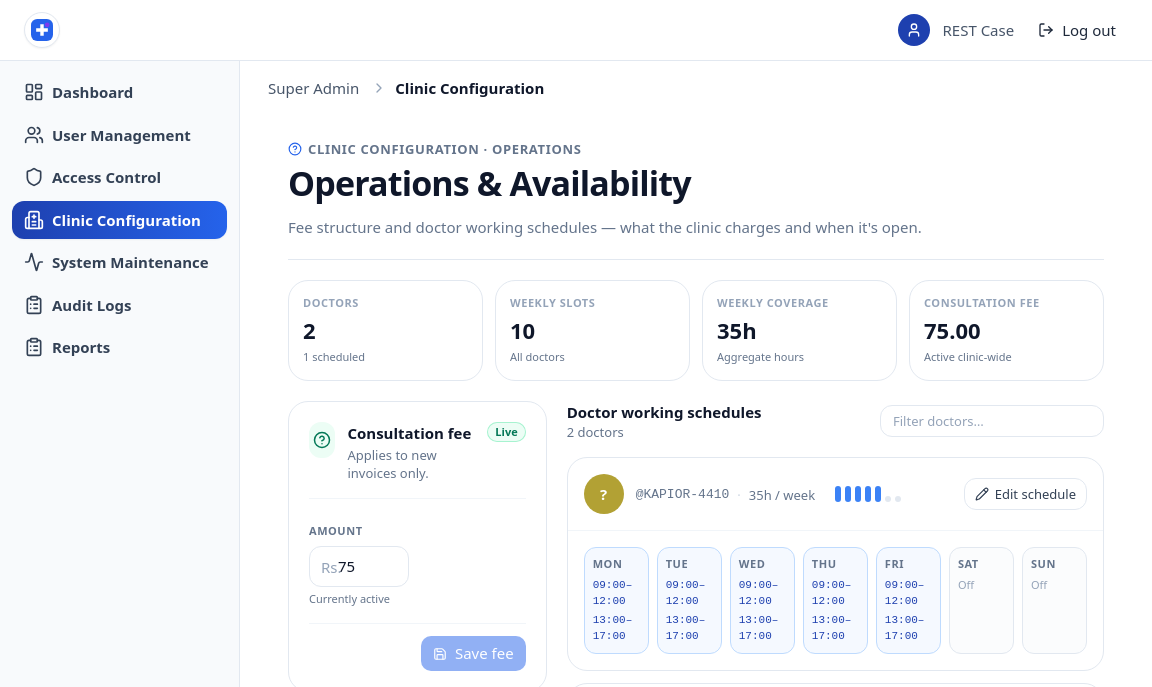
super-admin clinic configuration — REST cases › shows the backend refusal and keeps the draft when the fee save fails
Expected: the text "@KAPIOR-4410" is shown, [636,486,729,504]
Step 1. Replace the text in the number field labelled "Amount" with "150" → (359, 567), box [309,546,409,587]
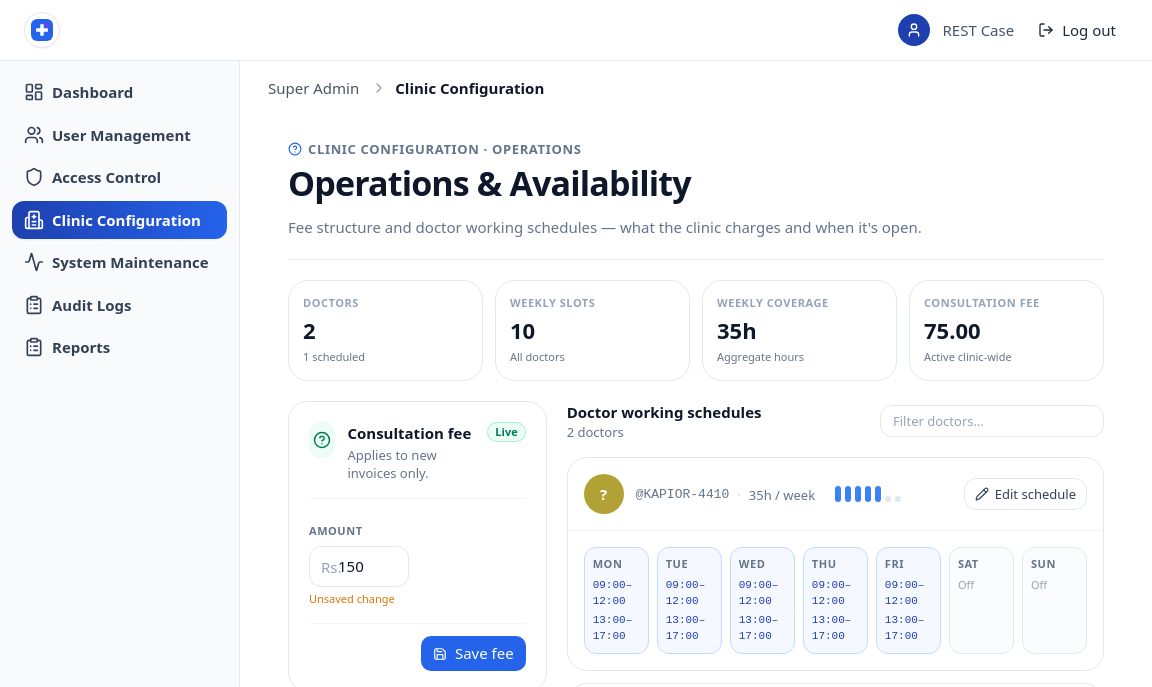
Step 2. Click the button "Save fee" → click(473, 654), box [421,636,526,671]
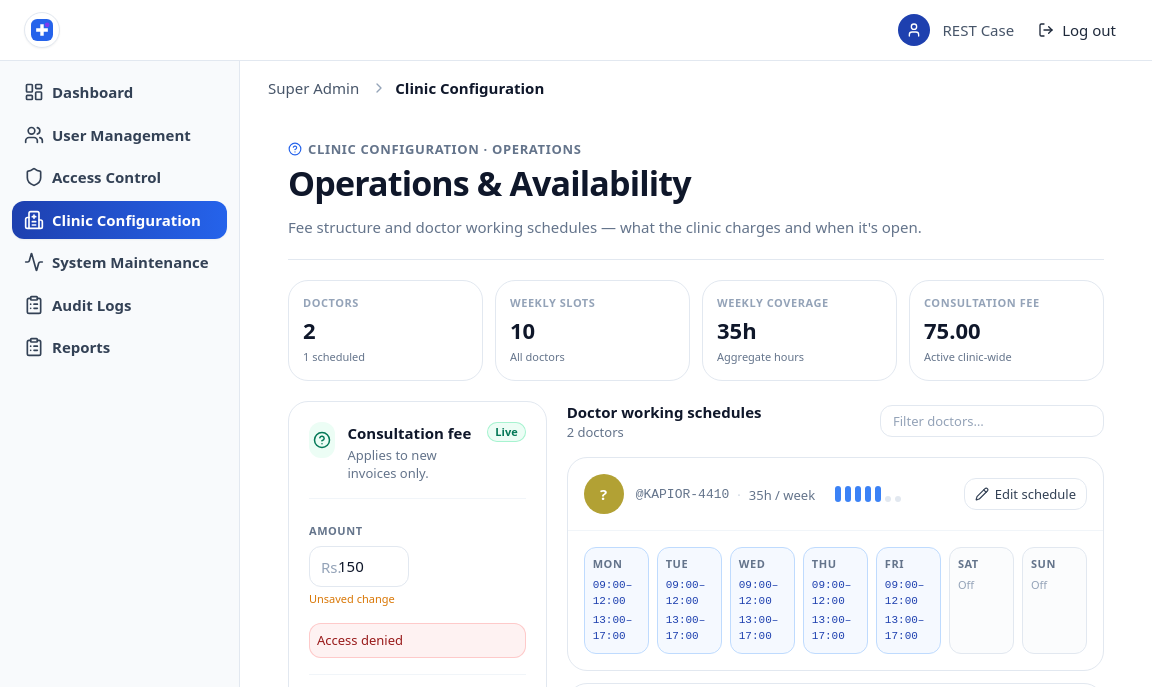
Expected: the text "75.00" is shown, [924,315,981,345]
Expected: the text "Unsaved change" is shown, [309,591,395,606]
Expected: the text "Access denied" is shown, [309,624,526,658]
